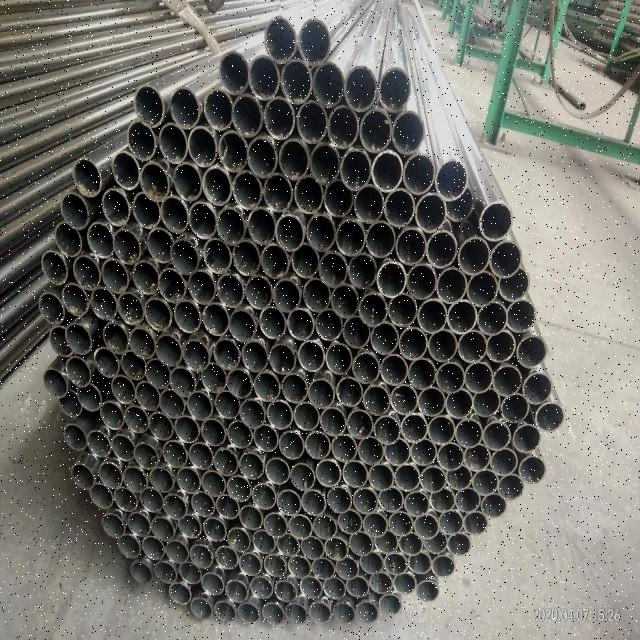pipe: (262, 15, 296, 63), (298, 18, 332, 66), (280, 58, 312, 104), (311, 63, 343, 109), (344, 65, 376, 111), (376, 66, 409, 110), (359, 109, 393, 151), (434, 158, 468, 200), (133, 84, 165, 128), (248, 56, 279, 100), (478, 200, 512, 240), (262, 96, 294, 138), (327, 106, 359, 148), (392, 111, 424, 153), (370, 148, 402, 190), (403, 153, 435, 195), (218, 50, 248, 94), (169, 84, 199, 128), (296, 99, 326, 143), (246, 136, 277, 178), (308, 142, 339, 184), (414, 192, 446, 232), (186, 125, 216, 167), (218, 130, 248, 172), (340, 148, 370, 190), (231, 95, 262, 135), (203, 88, 232, 130), (489, 240, 521, 278), (436, 266, 468, 304), (126, 120, 156, 160), (279, 139, 309, 179), (72, 158, 102, 198), (110, 150, 140, 190), (140, 160, 170, 200), (172, 161, 202, 201), (407, 262, 437, 302), (457, 237, 490, 273), (425, 230, 458, 266), (333, 218, 365, 255), (159, 122, 187, 164), (263, 172, 292, 212), (466, 271, 498, 307), (364, 222, 396, 258), (100, 188, 130, 226), (232, 171, 262, 209), (216, 207, 246, 245), (384, 188, 414, 226), (273, 214, 303, 252), (317, 250, 347, 288), (61, 190, 89, 230), (202, 167, 232, 204), (293, 175, 323, 212), (323, 180, 353, 217), (396, 227, 426, 264), (112, 227, 141, 265), (247, 207, 276, 245), (498, 267, 530, 301), (303, 214, 335, 248), (354, 186, 384, 222), (444, 185, 474, 221), (446, 298, 476, 334), (260, 243, 290, 279), (376, 260, 406, 296), (54, 219, 82, 257), (72, 253, 100, 291), (132, 190, 160, 228), (145, 226, 173, 264), (188, 200, 216, 238), (515, 336, 548, 368), (477, 301, 508, 335), (457, 329, 487, 364), (159, 196, 188, 232), (290, 241, 319, 277), (357, 292, 387, 326), (416, 298, 446, 332), (487, 329, 516, 364), (61, 282, 89, 318), (170, 238, 198, 274), (158, 266, 186, 302), (203, 238, 231, 274), (188, 269, 216, 305), (231, 240, 259, 276), (348, 252, 376, 288), (216, 272, 244, 308), (87, 220, 113, 258), (90, 286, 118, 321), (399, 326, 427, 361), (40, 249, 67, 285), (101, 257, 128, 293), (303, 278, 330, 314), (521, 372, 551, 404), (492, 364, 522, 396), (427, 329, 457, 361), (435, 361, 465, 393), (378, 353, 408, 385), (65, 322, 93, 356), (132, 260, 160, 294), (116, 292, 144, 326), (142, 296, 170, 330), (507, 298, 535, 332), (330, 284, 358, 318), (389, 292, 417, 326), (202, 302, 230, 336), (408, 356, 437, 388), (181, 339, 209, 372), (240, 339, 268, 372), (297, 339, 325, 372), (346, 408, 374, 441), (245, 275, 272, 309), (352, 350, 379, 384), (129, 326, 155, 361), (156, 332, 182, 367), (471, 388, 501, 418), (481, 420, 511, 450), (173, 300, 201, 332), (465, 360, 493, 392), (273, 279, 301, 311), (228, 309, 256, 341), (212, 338, 240, 370), (286, 308, 314, 340), (341, 316, 369, 348), (454, 416, 482, 448), (280, 372, 308, 404), (336, 375, 364, 407), (326, 341, 352, 375), (49, 323, 74, 358), (37, 292, 64, 324), (102, 320, 129, 352), (259, 306, 286, 338), (371, 320, 398, 352), (134, 378, 160, 411), (316, 308, 342, 341), (500, 393, 530, 421), (200, 362, 228, 392), (445, 388, 473, 418), (427, 414, 455, 444), (268, 344, 296, 374), (400, 412, 428, 442), (362, 385, 390, 415), (306, 378, 334, 408), (266, 400, 294, 430), (292, 402, 320, 432), (42, 366, 68, 398), (65, 354, 91, 386), (144, 356, 170, 388), (534, 402, 564, 429), (158, 389, 185, 419), (226, 368, 253, 398), (253, 371, 280, 401), (512, 424, 540, 452), (490, 447, 518, 475), (417, 388, 445, 416), (390, 385, 418, 413), (409, 438, 437, 466), (238, 398, 266, 426), (318, 408, 346, 436), (366, 463, 394, 491), (330, 434, 358, 462), (93, 348, 119, 378), (120, 350, 146, 380), (148, 410, 174, 440), (186, 390, 212, 420), (437, 440, 463, 470), (384, 436, 410, 466), (278, 430, 304, 460), (326, 484, 352, 514), (212, 446, 238, 476), (303, 431, 331, 458), (76, 380, 101, 410), (110, 374, 135, 404), (374, 415, 399, 445), (62, 422, 88, 450), (85, 429, 111, 457), (124, 406, 150, 434), (497, 473, 523, 501), (132, 442, 158, 470), (174, 414, 200, 442), (187, 441, 213, 469), (463, 442, 489, 470), (472, 468, 498, 496), (393, 463, 419, 491), (358, 435, 384, 463), (378, 484, 404, 512), (342, 460, 368, 488), (315, 458, 341, 486), (238, 451, 264, 479), (288, 461, 314, 489), (250, 481, 276, 509), (276, 487, 302, 515), (100, 400, 124, 430), (171, 366, 195, 396), (163, 438, 187, 468), (98, 461, 124, 488), (123, 465, 148, 493), (421, 464, 446, 492), (353, 486, 378, 514), (447, 463, 473, 489), (454, 486, 480, 512), (438, 508, 464, 534), (413, 512, 439, 538), (226, 421, 252, 447), (373, 528, 399, 554), (215, 391, 240, 418), (57, 388, 81, 416), (110, 434, 134, 462), (176, 466, 200, 494), (482, 491, 506, 519), (265, 457, 289, 485), (262, 509, 286, 537), (519, 457, 545, 482), (113, 484, 138, 510), (429, 487, 455, 512), (404, 491, 430, 516), (253, 424, 278, 450), (200, 471, 226, 496), (301, 490, 326, 516), (70, 462, 94, 489), (149, 467, 173, 493), (126, 510, 150, 536), (202, 418, 226, 444), (162, 493, 186, 519), (140, 534, 164, 560), (422, 530, 448, 554), (388, 512, 414, 536), (363, 512, 387, 538), (336, 508, 362, 532), (226, 475, 250, 501), (214, 492, 238, 518), (188, 542, 212, 568), (238, 504, 262, 530), (238, 550, 262, 576), (398, 532, 423, 556), (348, 532, 373, 556), (191, 491, 215, 516), (287, 514, 312, 538), (101, 512, 124, 538), (463, 510, 487, 534), (359, 549, 383, 573), (177, 514, 201, 538), (178, 560, 202, 584), (324, 536, 348, 560), (335, 556, 359, 580), (346, 574, 370, 598), (300, 534, 324, 558), (227, 528, 251, 552), (251, 529, 275, 553), (276, 532, 300, 556), (214, 544, 238, 568), (262, 552, 286, 576), (249, 574, 273, 598), (288, 554, 312, 578), (274, 578, 298, 602), (90, 482, 112, 508), (140, 486, 162, 512), (151, 516, 173, 542), (203, 517, 226, 541), (225, 578, 248, 602), (322, 576, 347, 598), (118, 534, 140, 558), (130, 560, 152, 584), (447, 532, 471, 554), (407, 551, 431, 573), (383, 552, 407, 574), (164, 540, 188, 562), (167, 582, 191, 604), (312, 515, 336, 537), (199, 572, 223, 594), (300, 574, 322, 598), (431, 554, 454, 576), (189, 596, 212, 618), (213, 600, 236, 622), (262, 601, 283, 625), (416, 580, 438, 602), (394, 572, 416, 594), (154, 561, 176, 583), (357, 600, 379, 622), (312, 557, 334, 579), (237, 601, 259, 623), (284, 602, 306, 624), (309, 602, 331, 624), (369, 572, 392, 592), (378, 594, 400, 614), (333, 602, 354, 622)
